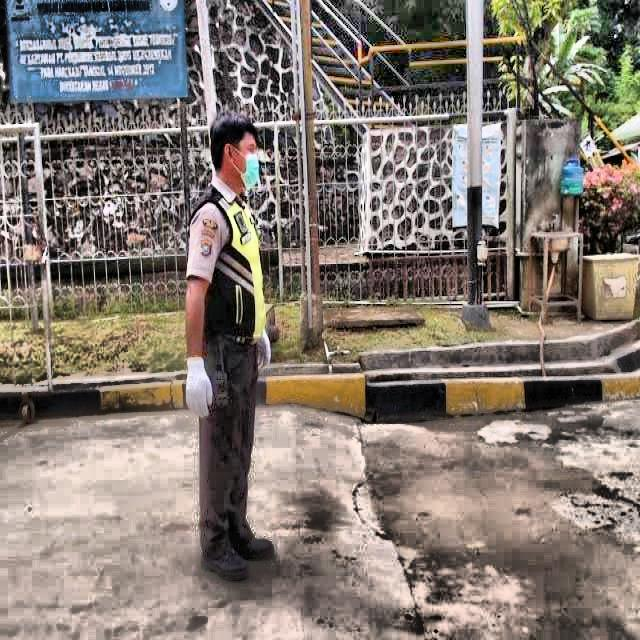safety_jacket: (188, 190, 266, 350)
